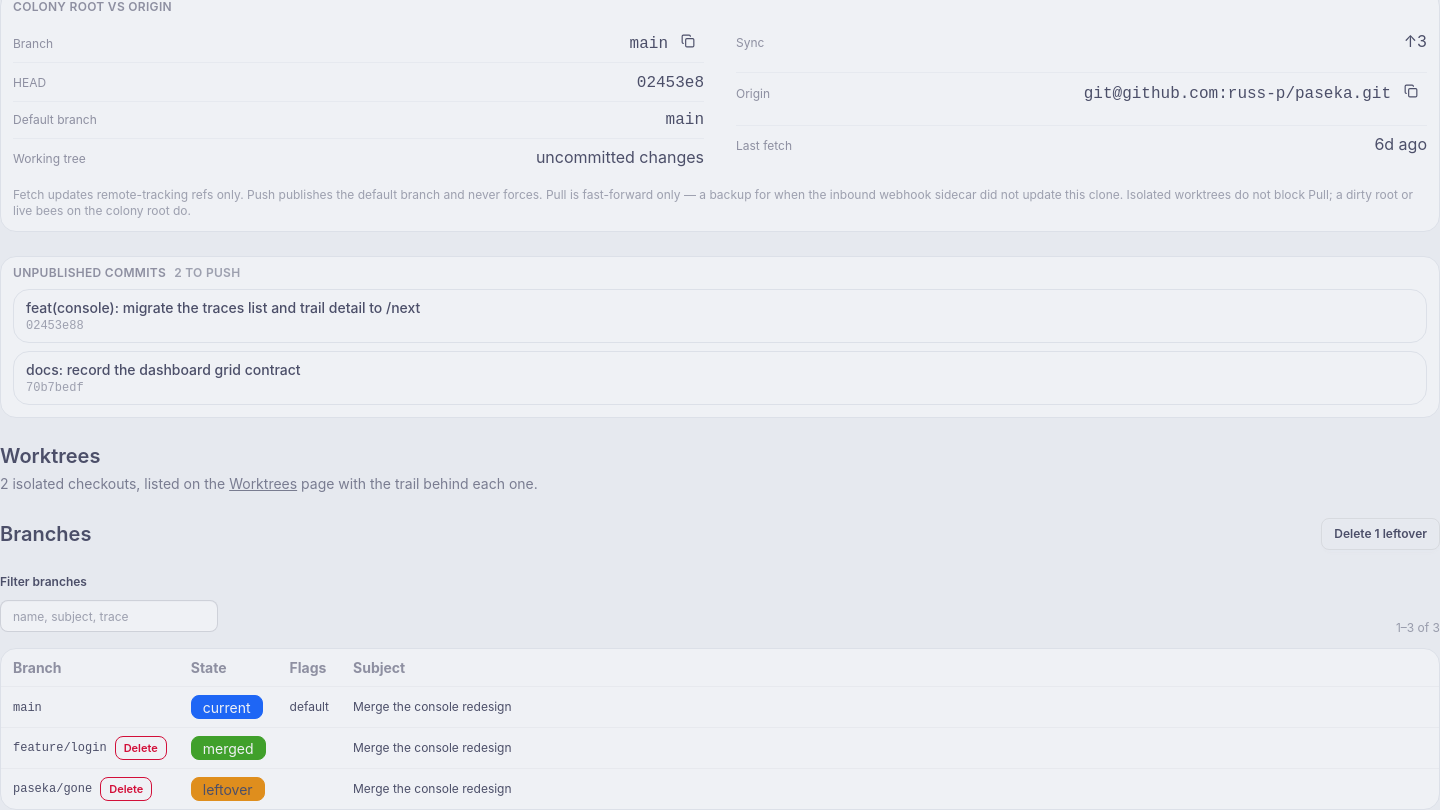
Test: git route › names the sweep again after a row delete, so the dialog is not left armed
This screenshot has width=1440, height=810.
(page scrolled)
Check: the text "feature/login" is shown, box [13,739,107,757]
Click the button with aria-label "Delete feature/login" at (141, 748), box [115,736,167,760]
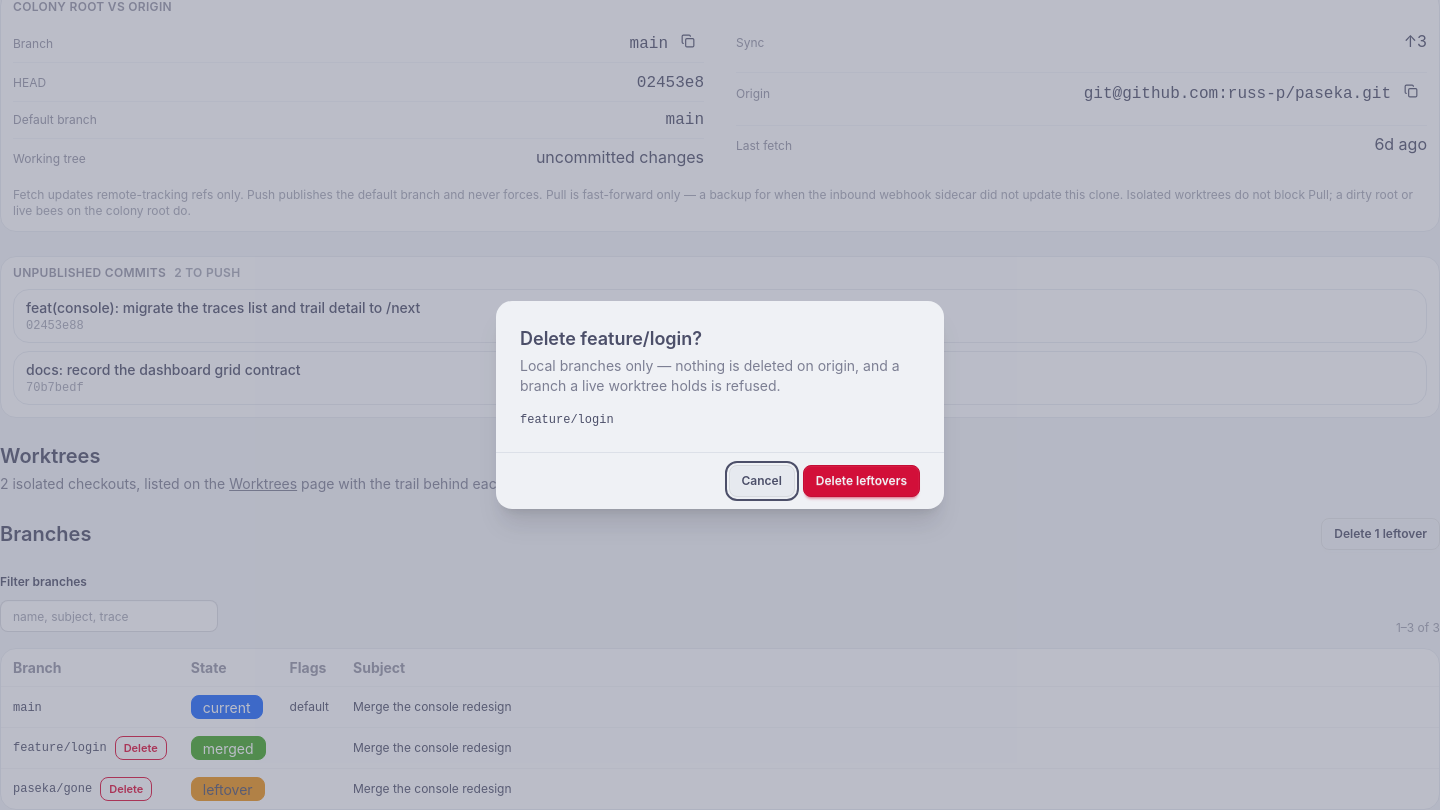
Click the button "Delete leftovers" at (861, 481), box [803,465,920,497]
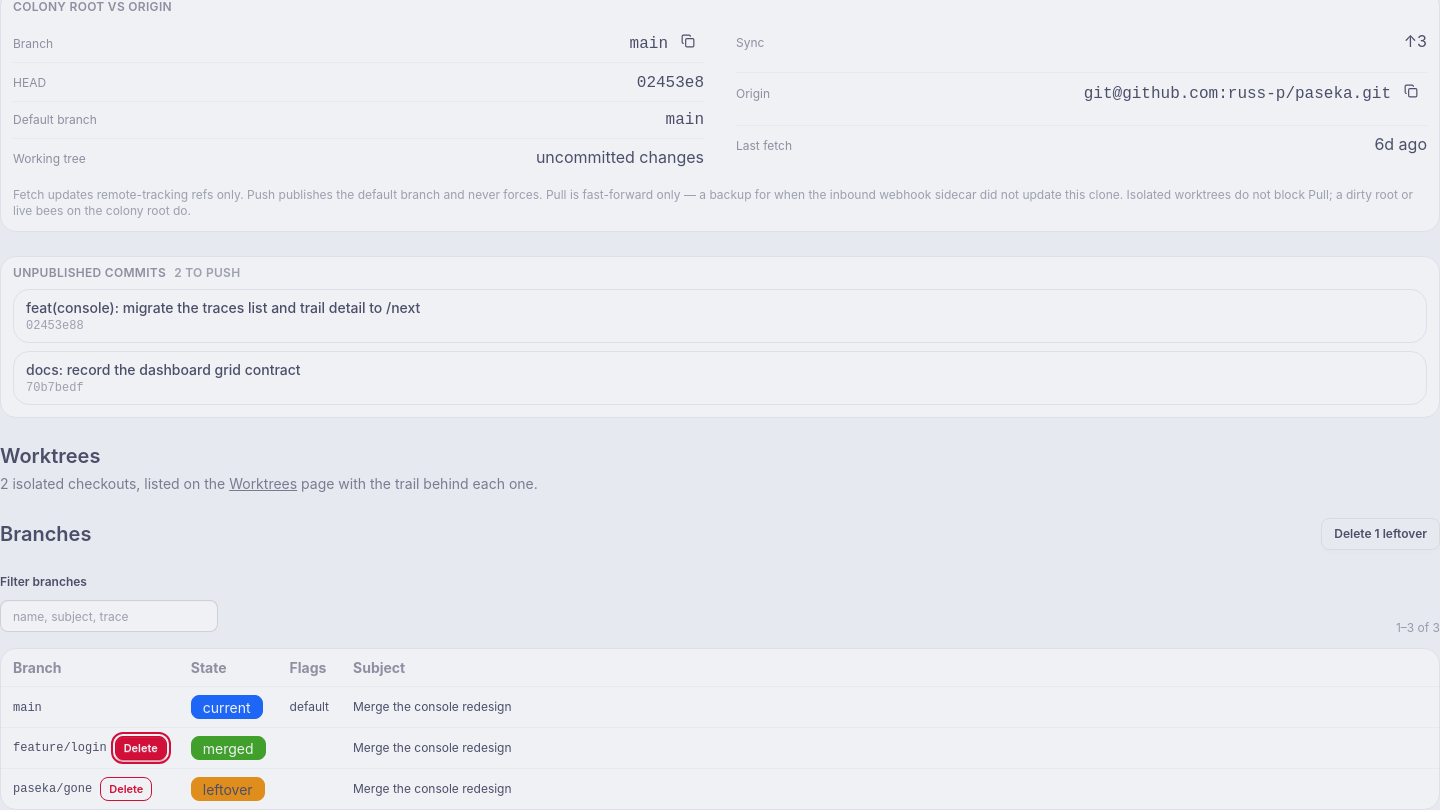
Check: the dialog is gone
Click the button "Delete 1 leftover" at (1381, 534), box [1321,518,1439,550]
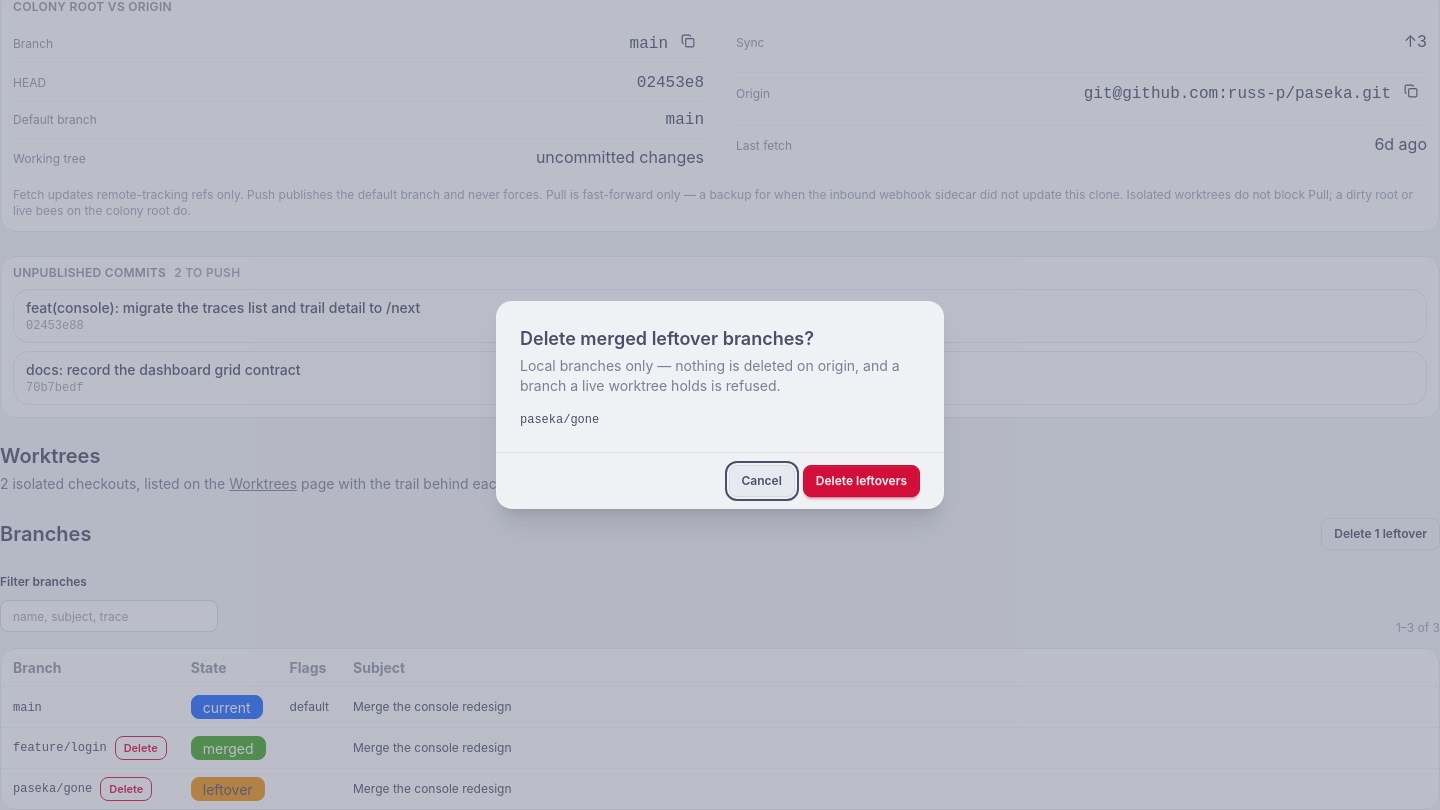
Check: the list item "paseka/gone" is shown, box [520,413,599,427]
